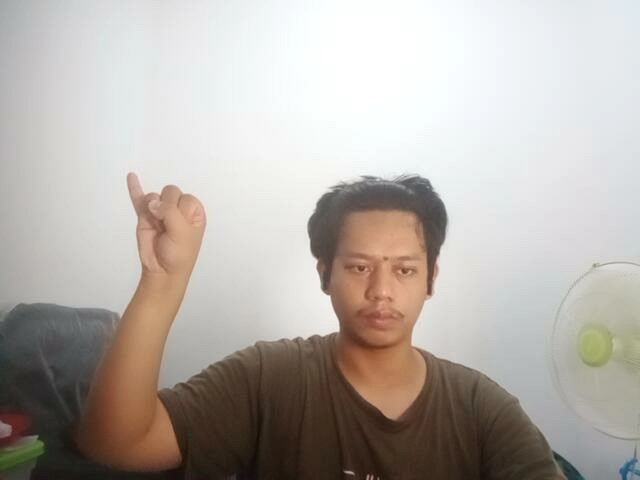I: (109, 164, 219, 285)
